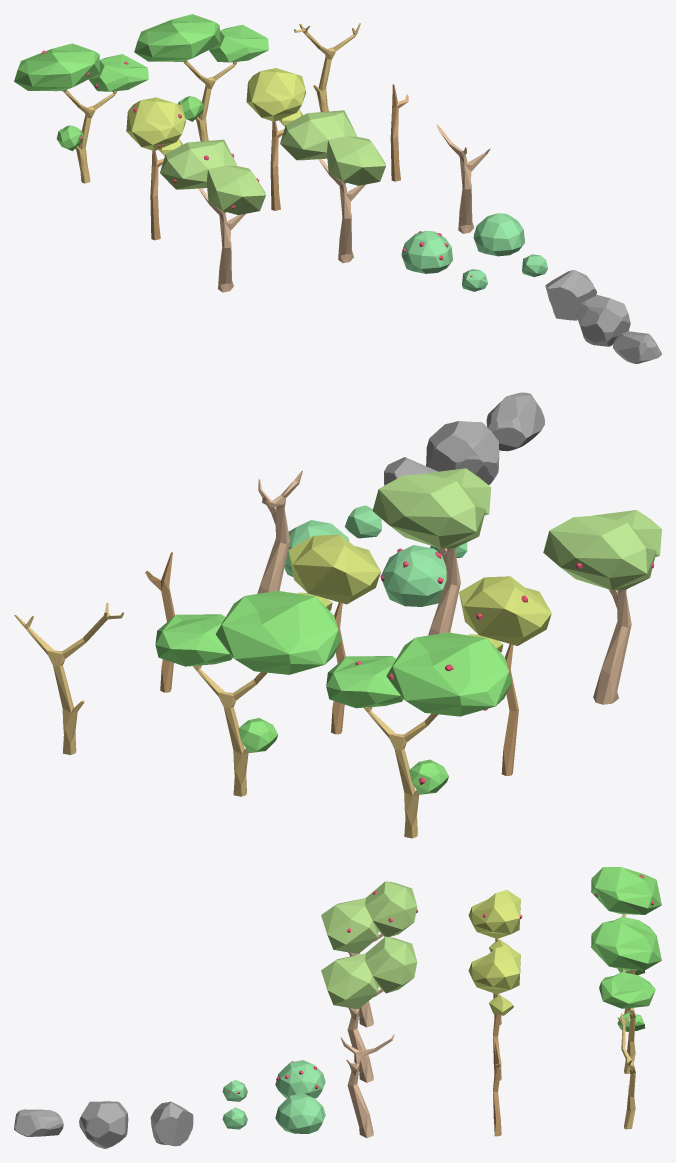
The model's file is nature-pack.glb.
The picture shows the model from 3 angles, top to bottom: view 1: azimuth 30°, elevation 25°; view 2: azimuth 150°, elevation 25°; view 3: azimuth 270°, elevation 25°; orthographic projection. The views are drawn at different scales.
Parts seen in each view (by area): view 1: Tree_003_Crown_LOD0.001, Tree_003_Crown_LOD0.002, Tree_001_Crown_LOD0.002, Tree_001_Crown_LOD0.001, Tree_002_Crown_LOD0.002, Tree_002_Crown_LOD0.001, Rock_002_LOD0.001, Bush_002_LOD0.001, Bush_002_LOD0.002, Rock_001_LOD0.001, Tree_001_LOD0.003, Rock_003_LOD0.001 (+8 smaller); view 2: Tree_003_Crown_LOD0.002, Tree_003_Crown_LOD0.001, Tree_001_Crown_LOD0.002, Tree_001_Crown_LOD0.001, Tree_002_Crown_LOD0.002, Tree_002_Crown_LOD0.001, Rock_002_LOD0.001, Bush_002_LOD0.002, Rock_003_LOD0.001, Tree_003_LOD0.003, Tree_001_LOD0.001, Tree_001_LOD0.003 (+9 smaller); view 3: Tree_003_Crown_LOD0.002, Tree_001_Crown_LOD0.002, Tree_001_Crown_LOD0.001, Tree_003_Crown_LOD0.001, Tree_002_Crown_LOD0.002, Tree_002_Crown_LOD0.001, Rock_002_LOD0.001, Bush_002_LOD0.001, Rock_001_LOD0.001, Bush_002_LOD0.002, Tree_001_LOD0.003, Rock_003_LOD0.001 (+5 smaller).
Part boxes in pixels (x1,y1,x2,y2): Tree_003_Crown_LOD0.001: (14, 43, 148, 151); Tree_003_Crown_LOD0.002: (134, 14, 268, 121); Tree_001_Crown_LOD0.002: (280, 110, 385, 185); Tree_001_Crown_LOD0.001: (160, 139, 265, 214); Tree_002_Crown_LOD0.002: (246, 68, 305, 126); Tree_002_Crown_LOD0.001: (126, 97, 185, 155); Rock_002_LOD0.001: (577, 295, 630, 346); Bush_002_LOD0.001: (473, 213, 525, 256); Bush_002_LOD0.002: (401, 230, 452, 273); Rock_001_LOD0.001: (545, 270, 596, 320); Tree_001_LOD0.003: (436, 124, 490, 233); Rock_003_LOD0.001: (613, 331, 661, 363); Tree_003_Crown_LOD0.002: (155, 590, 341, 752); Tree_003_Crown_LOD0.001: (326, 632, 512, 794); Tree_001_Crown_LOD0.002: (372, 468, 491, 548); Tree_001_Crown_LOD0.001: (543, 510, 661, 590); Tree_002_Crown_LOD0.002: (288, 534, 380, 610); Tree_002_Crown_LOD0.001: (459, 576, 551, 652); Rock_002_LOD0.001: (426, 421, 499, 484); Bush_002_LOD0.002: (381, 545, 446, 606); Rock_003_LOD0.001: (486, 392, 544, 451); Tree_003_LOD0.003: (14, 602, 124, 754); Tree_001_LOD0.001: (593, 589, 631, 704); Tree_001_LOD0.003: (257, 470, 302, 593); Tree_003_Crown_LOD0.002: (591, 922, 661, 1031); Tree_001_Crown_LOD0.002: (321, 936, 417, 1009); Tree_001_Crown_LOD0.001: (321, 881, 417, 953); Tree_003_Crown_LOD0.001: (591, 867, 661, 975); Tree_002_Crown_LOD0.002: (468, 945, 520, 1015); Tree_002_Crown_LOD0.001: (468, 890, 520, 951); Rock_002_LOD0.001: (79, 1101, 128, 1148); Bush_002_LOD0.001: (275, 1093, 325, 1133); Rock_001_LOD0.001: (150, 1101, 193, 1146); Bush_002_LOD0.002: (275, 1060, 325, 1098); Tree_001_LOD0.003: (340, 1034, 394, 1137); Rock_003_LOD0.001: (14, 1109, 63, 1136).
Size of the model in its own units: 71.35 by 31.58 by 124.
Materials: 1 (1 with a texture image).
